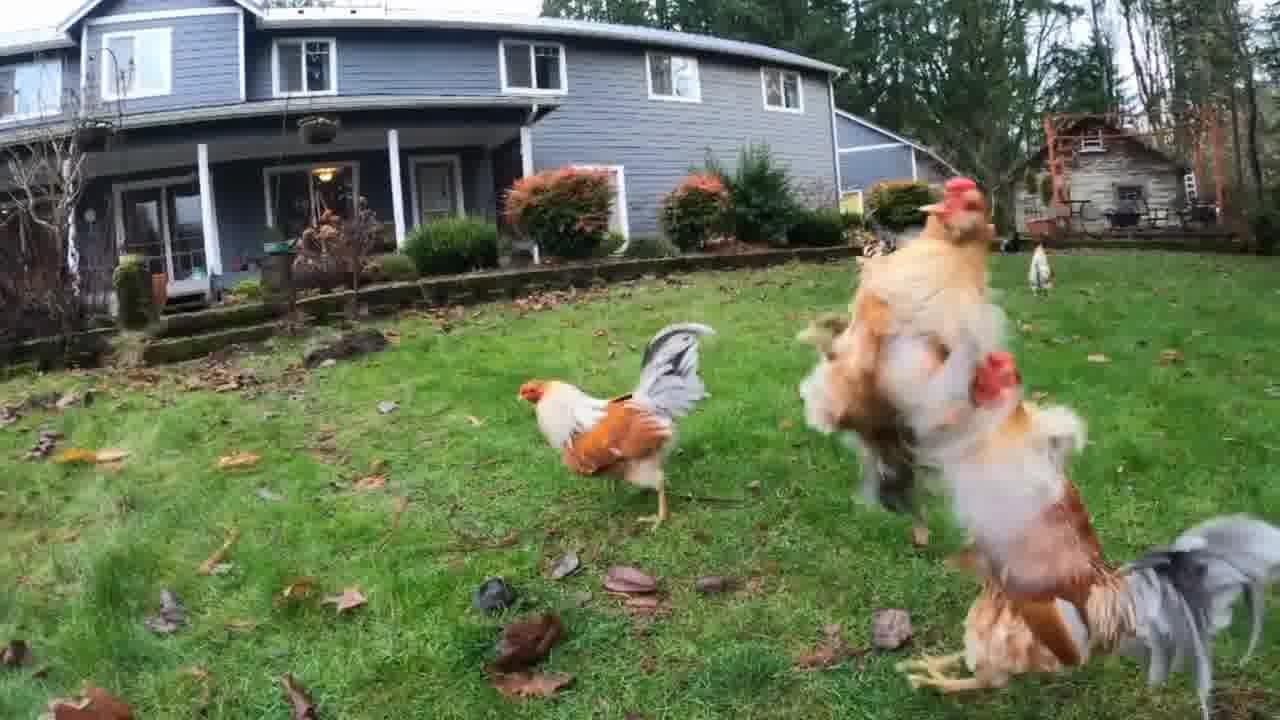Normal: (934, 356, 1280, 720), (786, 172, 1034, 448), (498, 322, 724, 532)
